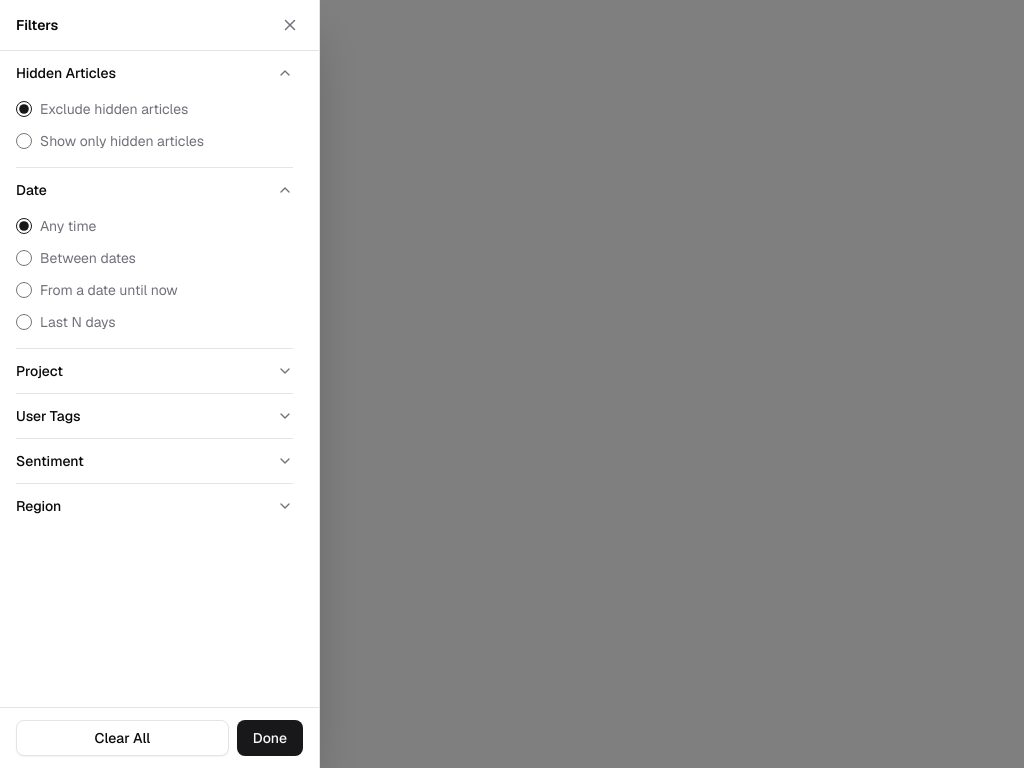
it: FilterPanel › restricts a hard concept to its granted allowedValues, ignoring any other facet bucket
What coordinates should you click on to do the following:
click the button "Region"
I would click on:
 (39, 506)
Its box is x1=16 y1=496 x2=293 y2=516.
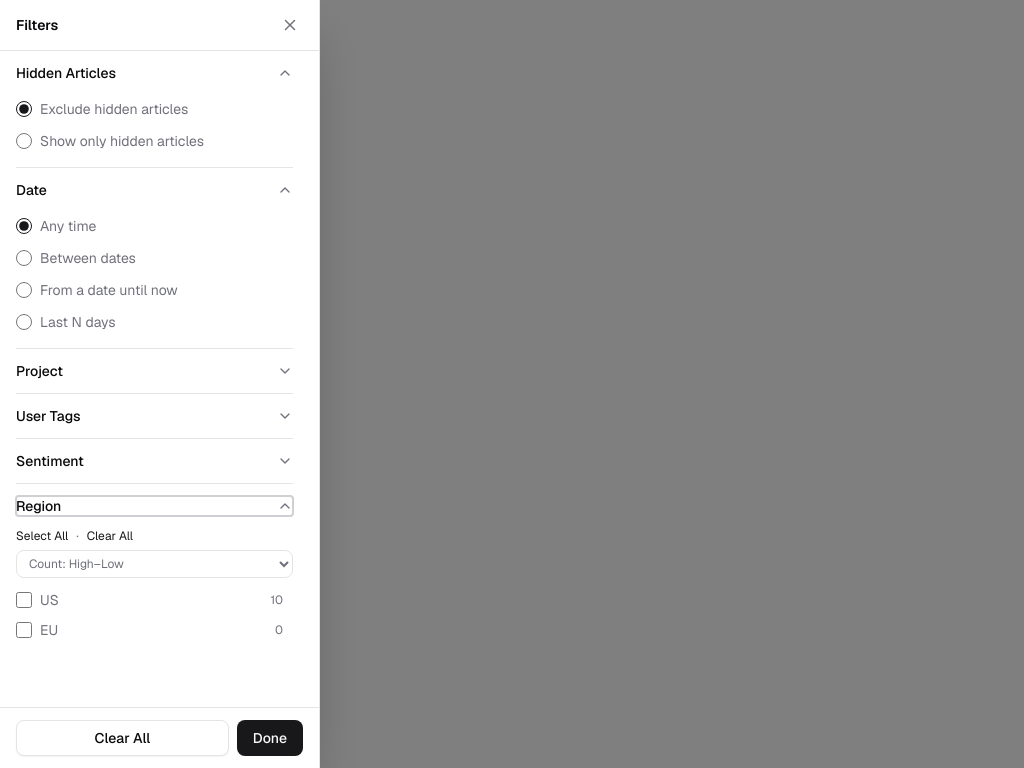
Now the checkbox labelled "US 10" is shown, box x1=16 y1=592 x2=32 y2=608
Now the checkbox labelled "EU 0" is shown, box x1=16 y1=622 x2=32 y2=638
